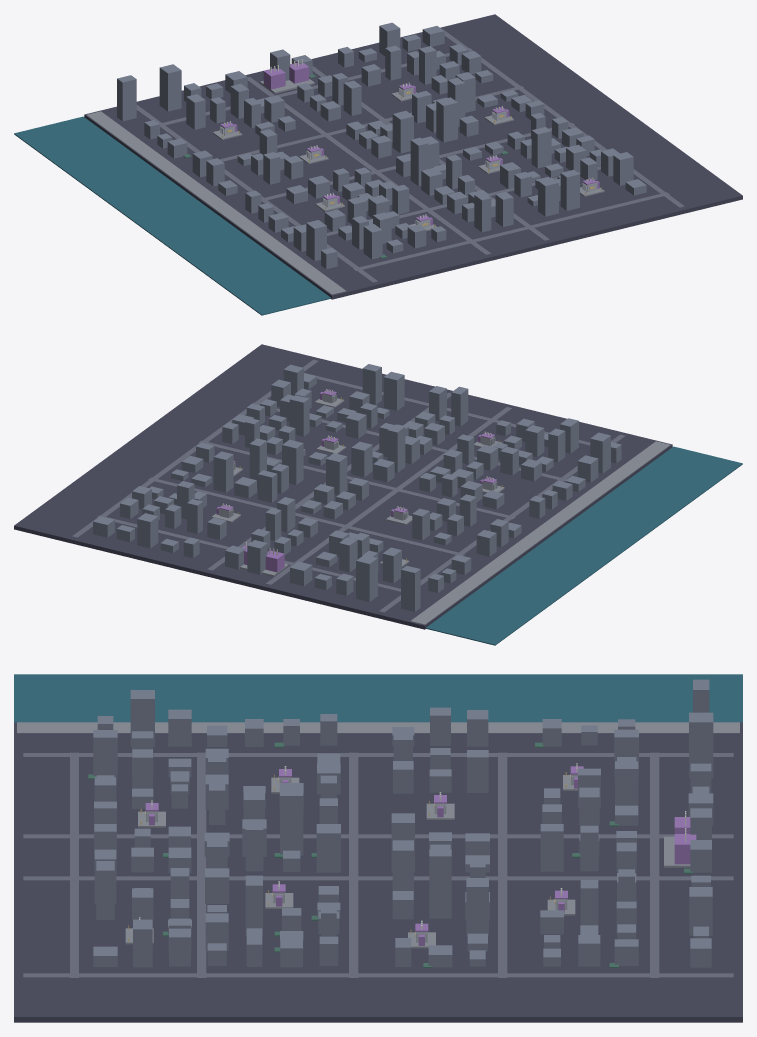
The model's file is dtia-distribution.glb.
3 views of the same model, one above another, from view 1: azimuth 30°, elevation 25°; view 2: azimuth 150°, elevation 25°; view 3: azimuth 270°, elevation 25° (orthographic). The views are drawn at different scales.
Visible parts, largest first — view 1: District platform, Buildings, Coast, Streets, Concrete, Asset housing, Transformer steel; view 2: District platform, Buildings, Coast, Streets, Concrete, Asset housing, Transformer steel; view 3: District platform, Buildings, Coast, Streets, Concrete, Asset housing, Landscaping, Transformer steel.
Boxes of the visible parts, x1=… form: District platform: x1=84, y1=14, x2=742, y2=299; Buildings: x1=117, y1=22, x2=646, y2=269; Coast: x1=14, y1=116, x2=331, y2=315; Streets: x1=136, y1=29, x2=684, y2=282; Concrete: x1=86, y1=79, x2=604, y2=294; Asset housing: x1=220, y1=63, x2=599, y2=225; Transformer steel: x1=220, y1=87, x2=597, y2=227; District platform: x1=14, y1=344, x2=672, y2=629; Buildings: x1=93, y1=364, x2=621, y2=611; Coast: x1=425, y1=446, x2=742, y2=645; Streets: x1=72, y1=359, x2=625, y2=612; Concrete: x1=211, y1=398, x2=670, y2=624; Asset housing: x1=216, y1=390, x2=497, y2=572; Transformer steel: x1=219, y1=394, x2=497, y2=520; District platform: x1=14, y1=722, x2=742, y2=1022; Buildings: x1=93, y1=679, x2=713, y2=967; Coast: x1=14, y1=674, x2=742, y2=722; Streets: x1=23, y1=752, x2=733, y2=978; Concrete: x1=17, y1=722, x2=739, y2=948; Asset housing: x1=145, y1=766, x2=696, y2=945; Landscaping: x1=88, y1=742, x2=693, y2=967; Transformer steel: x1=146, y1=774, x2=577, y2=942.
Bounding box in the file's own units: 264 × 24.29 × 235.
